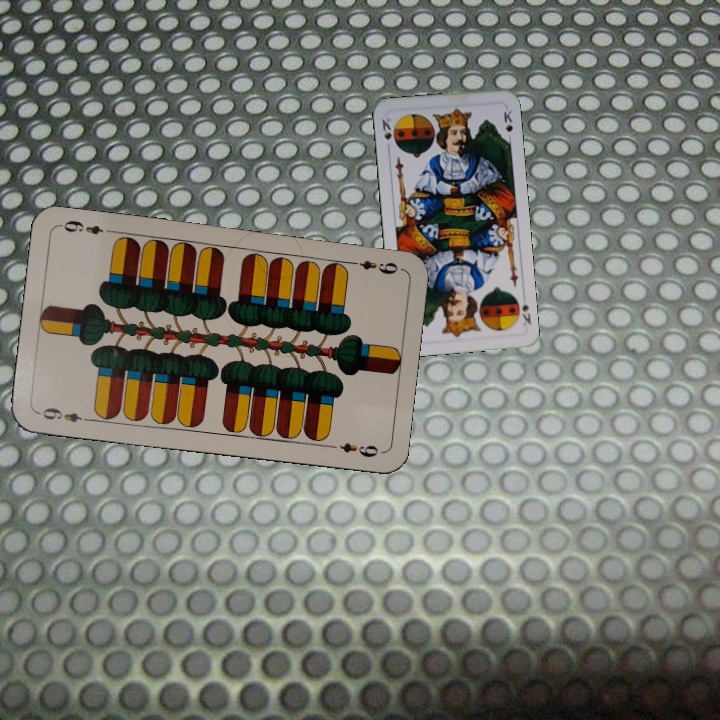E9: (35, 403, 94, 425), (344, 256, 401, 277)
SK: (378, 114, 398, 149), (518, 300, 534, 328)
